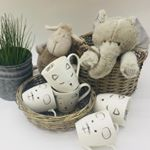cups: (72, 108, 121, 150), (39, 52, 83, 94), (20, 81, 59, 122), (92, 91, 133, 128), (51, 82, 92, 114)
